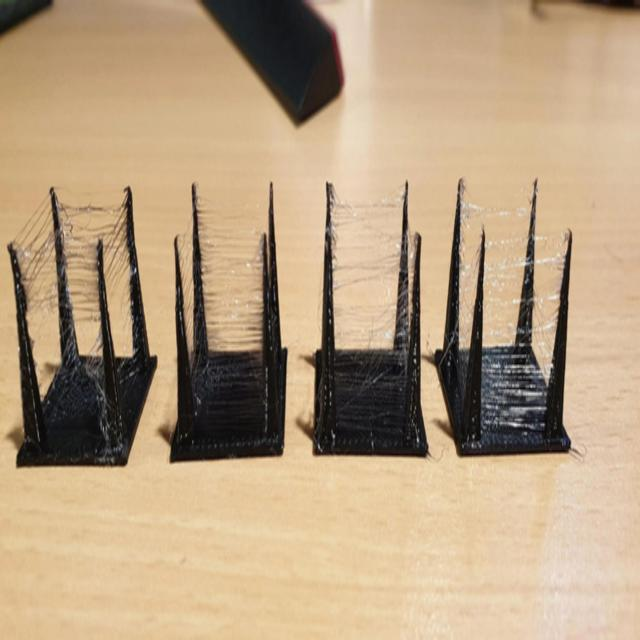Stringing: (483, 242, 564, 438), (460, 185, 531, 349), (333, 187, 404, 350), (197, 193, 268, 350), (58, 193, 128, 308), (17, 246, 99, 330), (386, 219, 416, 429), (533, 218, 567, 382), (13, 194, 56, 313), (458, 193, 481, 402), (178, 206, 194, 372), (83, 336, 105, 440), (120, 270, 132, 357)
